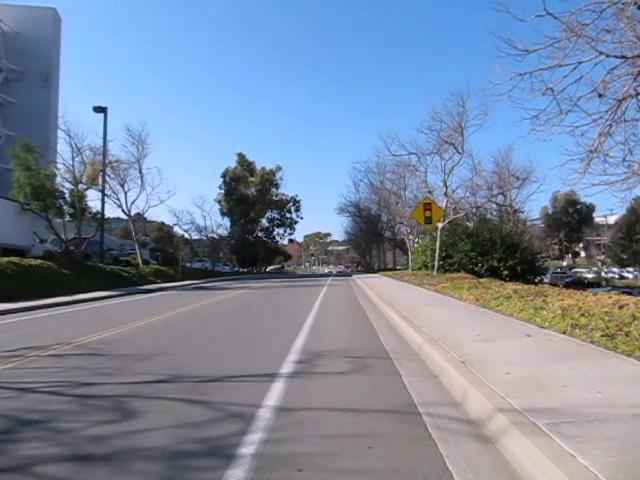signalAhead: (408, 195, 445, 232)
